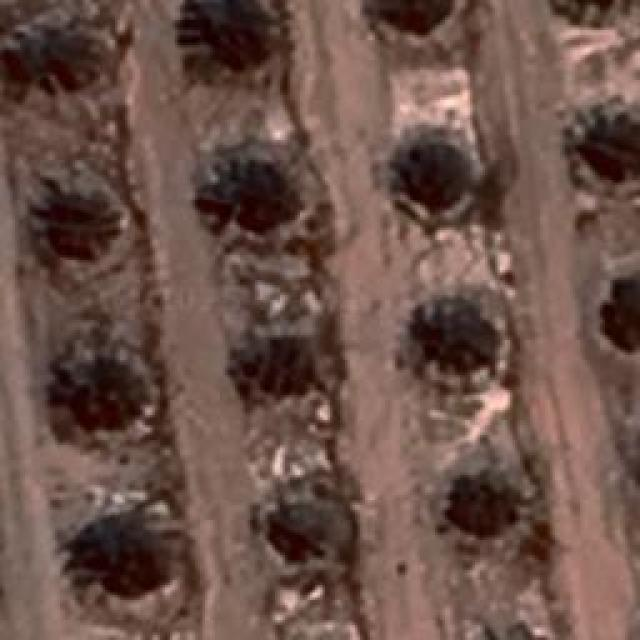PalmTree: (75, 19, 411, 231), (64, 502, 168, 606), (407, 284, 495, 384), (557, 87, 640, 190), (388, 130, 484, 218), (58, 355, 150, 445), (178, 0, 282, 75), (204, 154, 302, 232), (431, 464, 521, 546), (261, 484, 344, 572), (16, 16, 109, 94), (238, 329, 322, 409), (605, 262, 640, 348), (548, 0, 638, 26), (546, 0, 640, 19), (468, 623, 552, 640)
